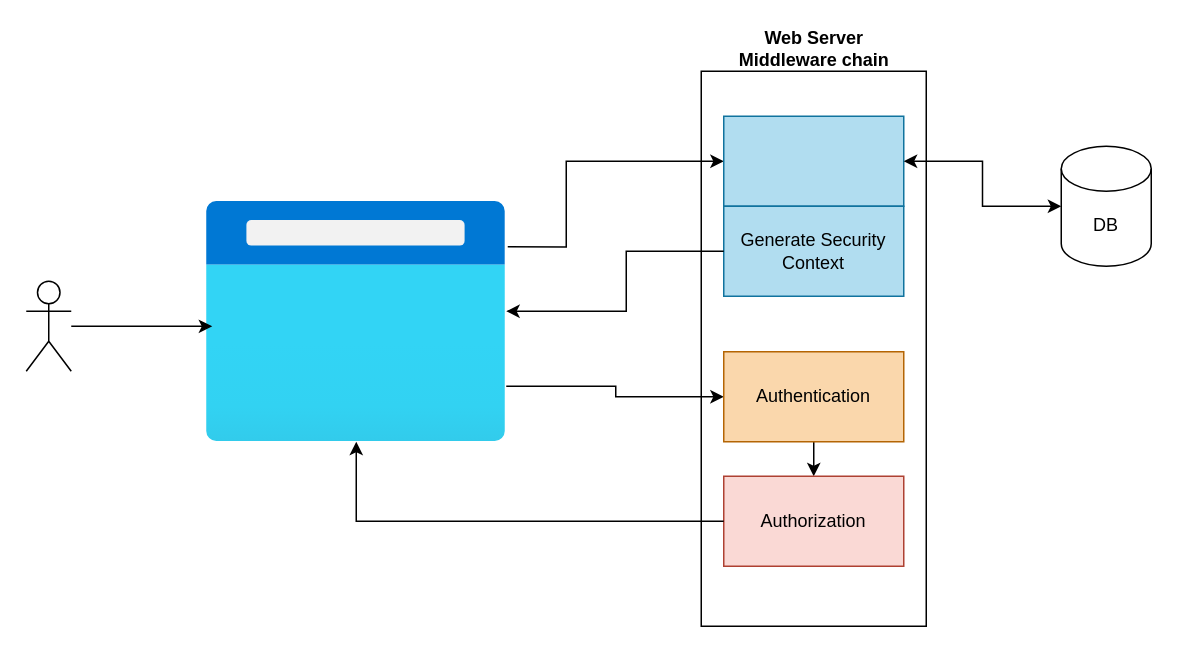
The diagram is 1178 pixels wide and 653 high, and some of its shapes have lost their labels. The shapes that lost their labels are listed below. From the top down, each one's centre as x and y in pixels, then its label:
pixel 813 160: Verify Credentials
pixel 48 325: Actor
